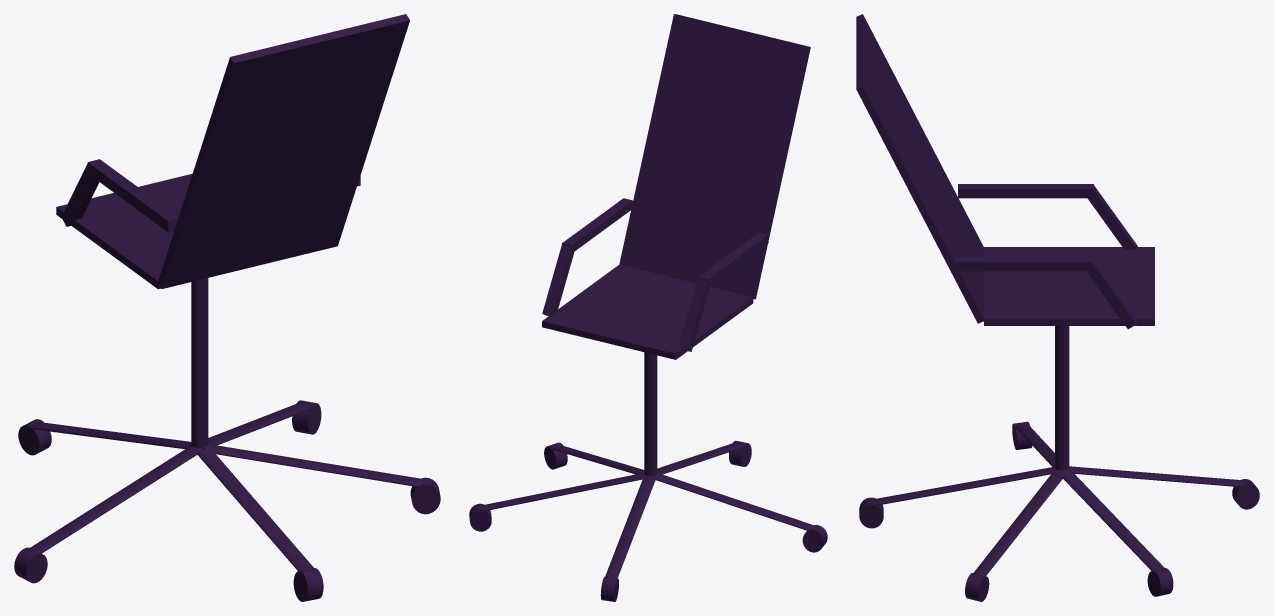
The model's file is стул.glb.
The picture shows the model from 3 angles, left to right: view 1: azimuth 30°, elevation 25°; view 2: azimuth 150°, elevation 25°; view 3: azimuth 270°, elevation 25°; orthographic projection. The views are drawn at different scales.
Parts seen in each view (by area): view 1: Cube; view 2: Cube; view 3: Cube.
Boxes of the visible parts, left/top/right/bottom form: Cube: left=14, top=14, right=440, bottom=601; Cube: left=469, top=14, right=827, bottom=601; Cube: left=856, top=14, right=1259, bottom=601.
Size of the model in its own units: 9.28 by 12.75 by 9.73.
